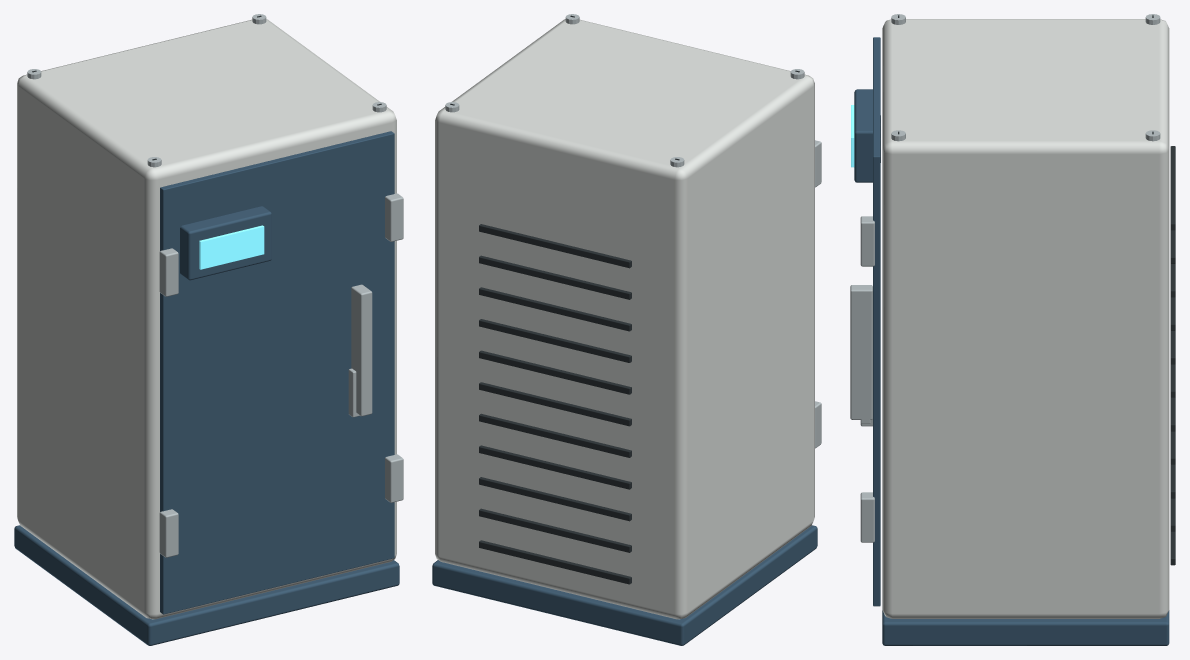
The model's file is container-inspection-and-customs-yard-container-inspec-14f1124c__29293.glb.
The picture shows the model from 3 angles, left to right: view 1: azimuth 30°, elevation 25°; view 2: azimuth 150°, elevation 25°; view 3: azimuth 270°, elevation 25°; orthographic projection. The views are drawn at different scales.
Parts seen in each view (by area): view 1: container-inspection-and-customs-yard-lockable-sample-refrig (×4); view 2: container-inspection-and-customs-yard-lockable-sample-refrig (×4); view 3: container-inspection-and-customs-yard-lockable-sample-refrig (×4).
Part boxes in pixels (x1=…): container-inspection-and-customs-yard-lockable-sample-refrig (×4): x1=14, y1=14, x2=403, y2=645; container-inspection-and-customs-yard-lockable-sample-refrig (×4): x1=432, y1=14, x2=821, y2=645; container-inspection-and-customs-yard-lockable-sample-refrig (×4): x1=850, y1=14, x2=1175, y2=645.
Size of the model in its own units: 0.7501 by 1.37 by 0.7925.
